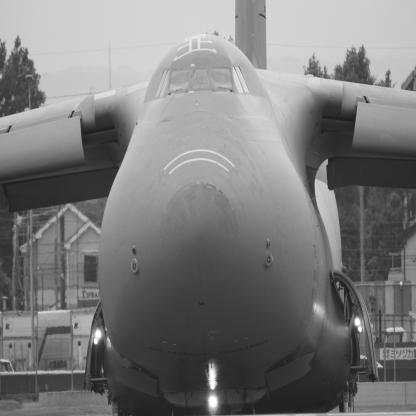C5: (1, 1, 416, 416)
